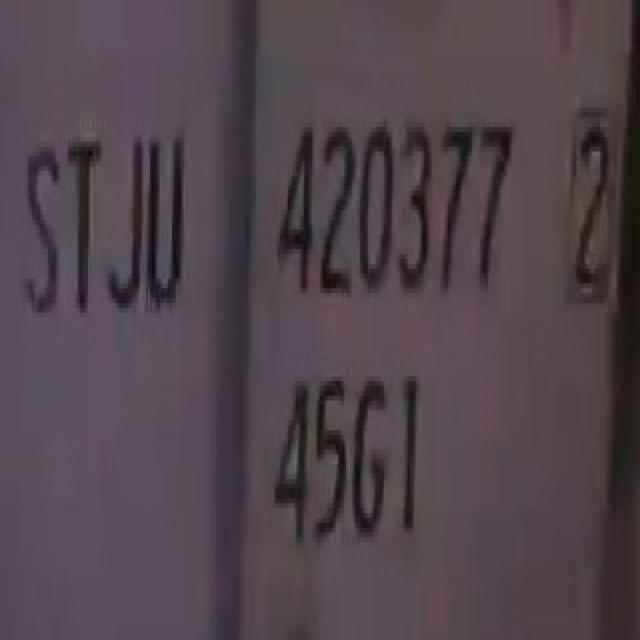dv: (549, 98, 615, 311)
owner: (20, 102, 192, 336)
serial: (274, 98, 516, 314)
size: (262, 364, 432, 558)
